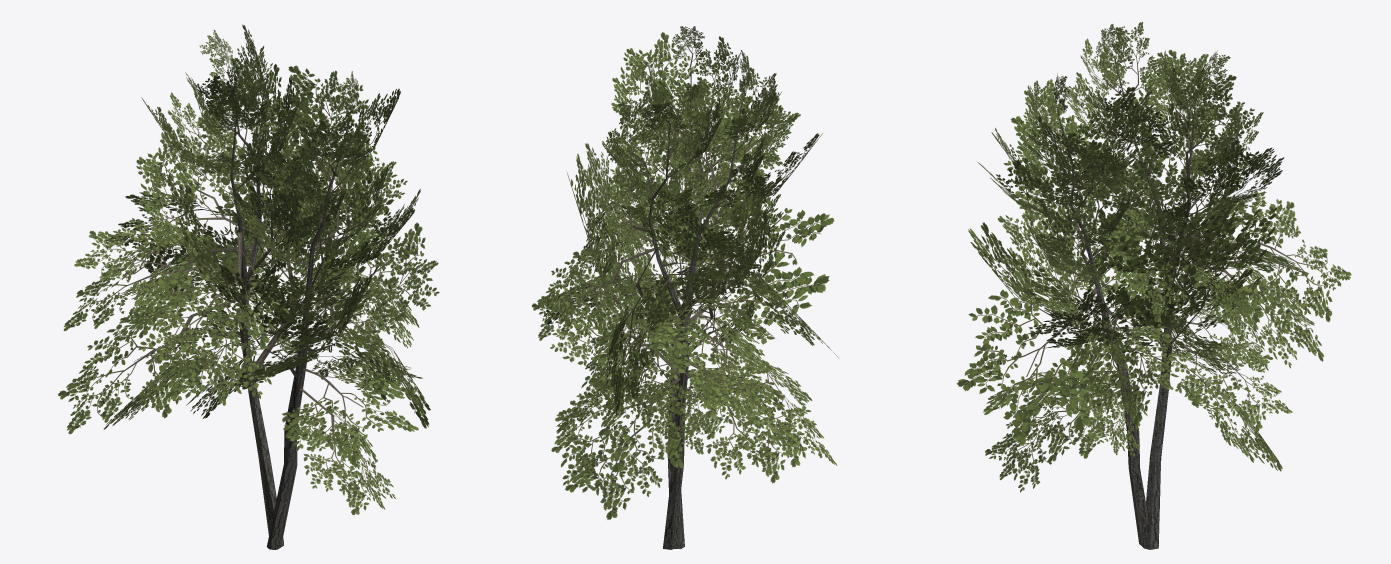
The model's file is Tree1.gltf.
3 views of the same model, side by side, from view 1: azimuth 30°, elevation 25°; view 2: azimuth 150°, elevation 25°; view 3: azimuth 270°, elevation 25° (orthographic). The views are drawn at different scales.
Parts seen in each view (by area): view 1: Tree-01-1_0; view 2: Tree-01-1_0; view 3: Tree-01-1_0.
Boxes of the visible parts, bbox=[...] form: Tree-01-1_0: bbox=[58, 24, 439, 549]; Tree-01-1_0: bbox=[531, 26, 839, 549]; Tree-01-1_0: bbox=[956, 22, 1351, 549].
Size of the model in its own units: 153 by 223 by 186.
6 materials, 6 textured.
